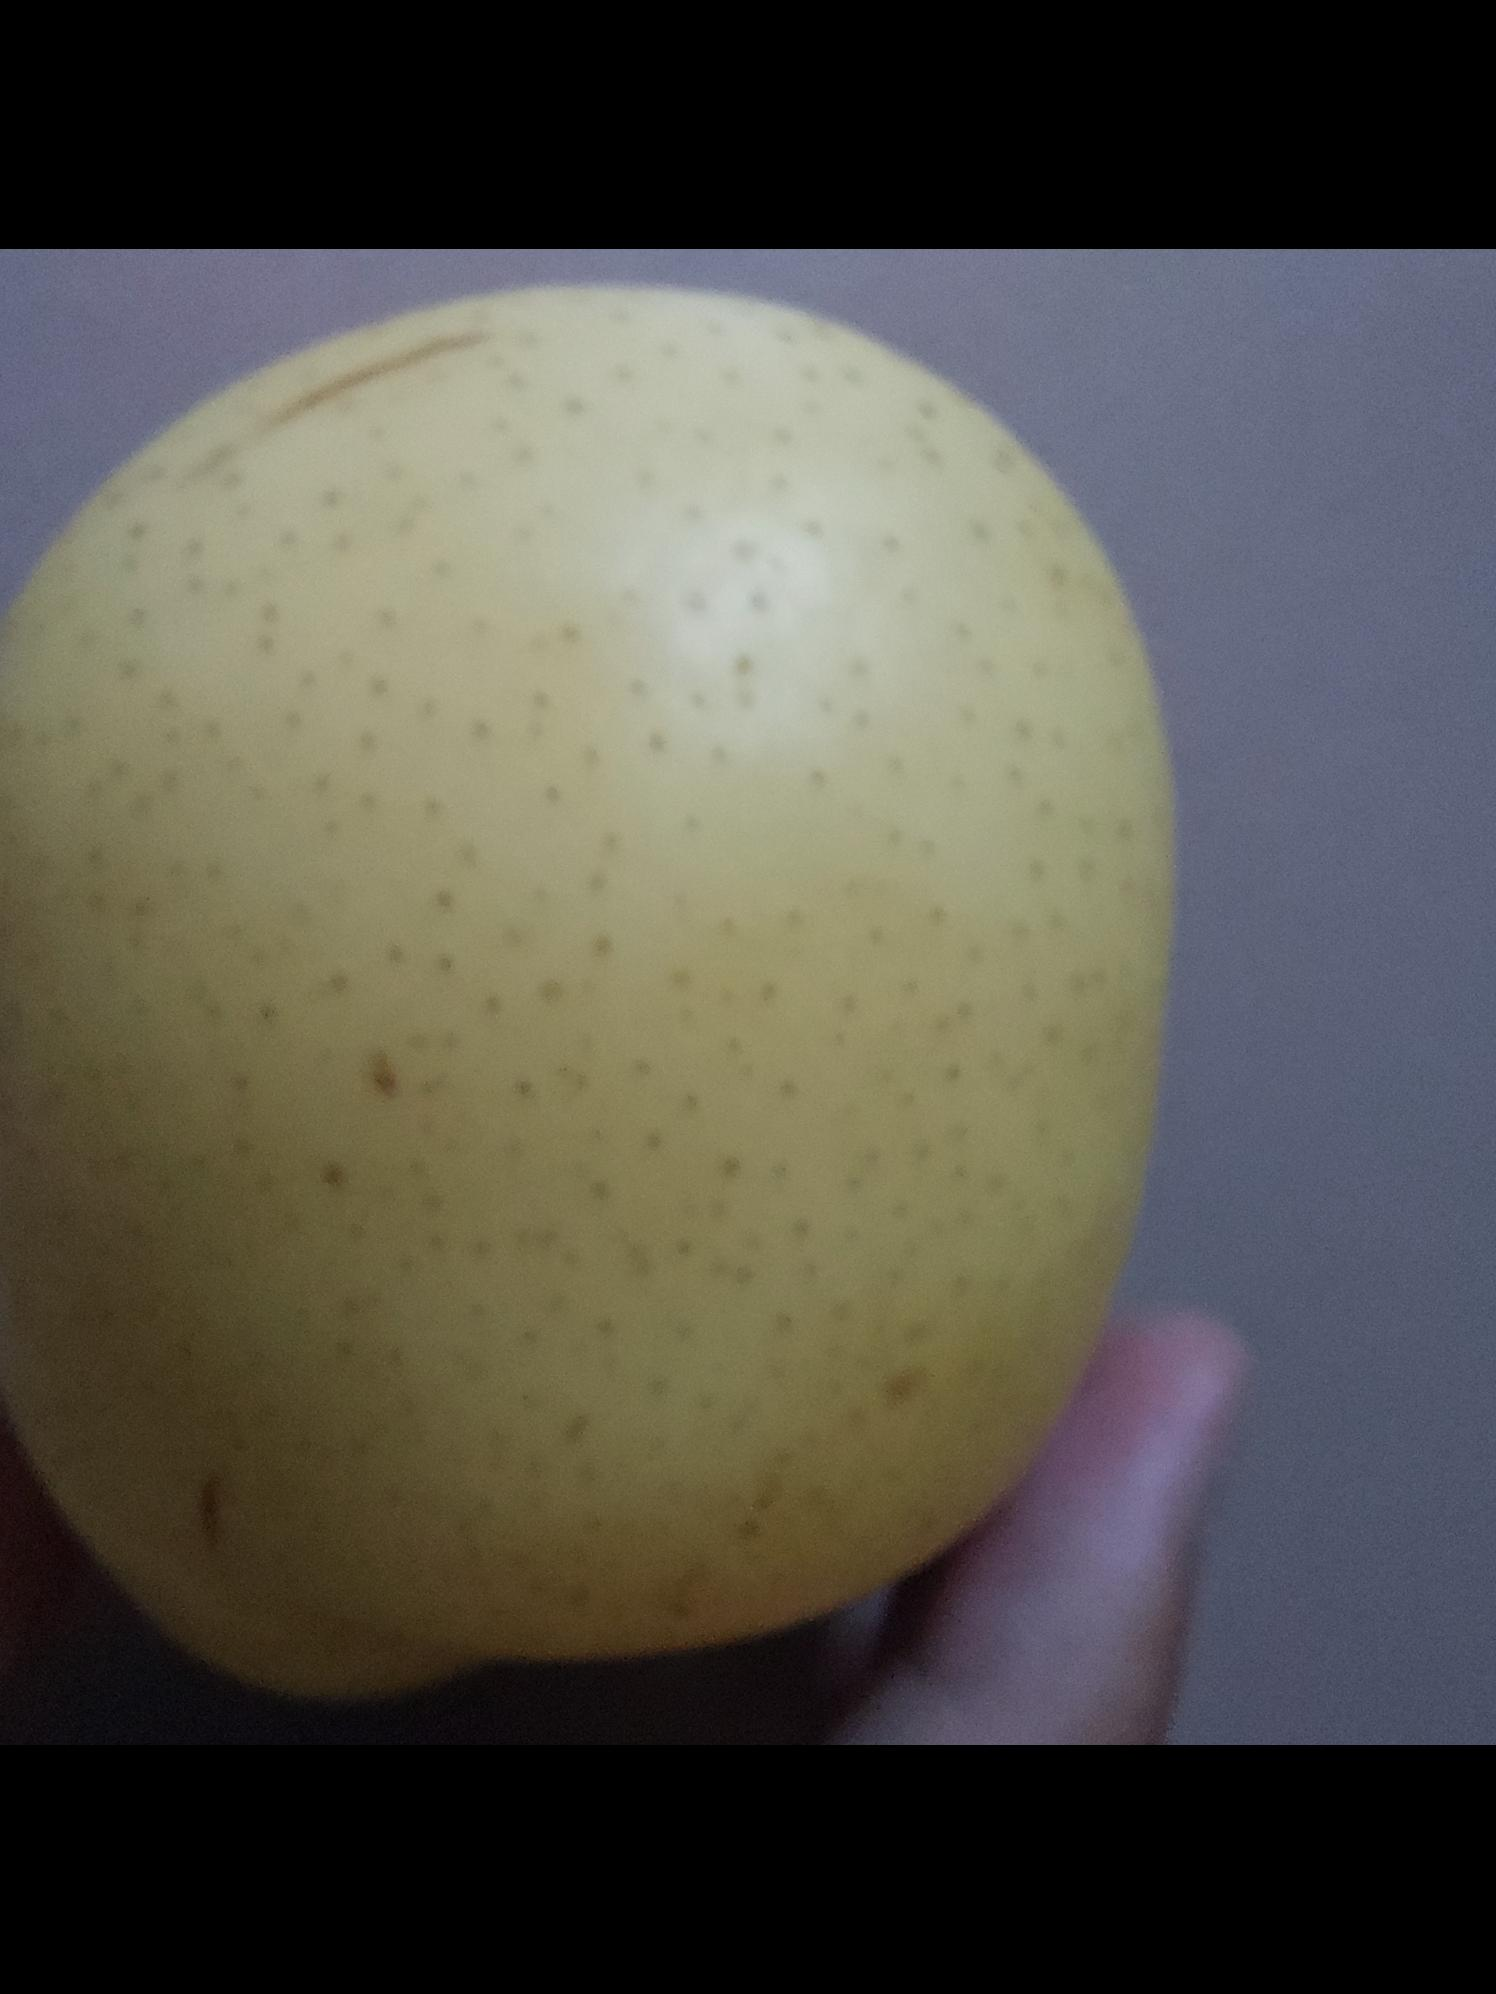Good Pear: (0, 248, 1166, 1376)
